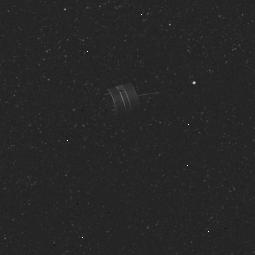double_start: (96, 70, 169, 114)
